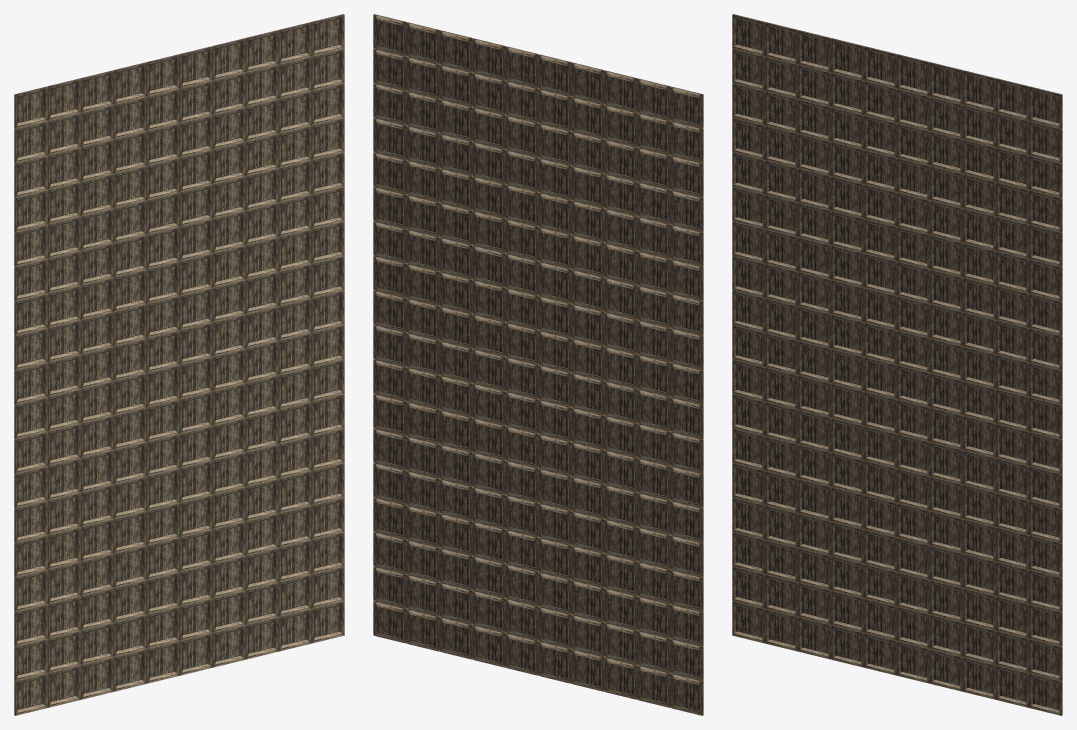
Rendered from frame.obj.
The picture shows the model from 3 angles, left to right: view 1: azimuth 30°, elevation 25°; view 2: azimuth 150°, elevation 25°; view 3: azimuth 330°, elevation 25°; orthographic projection.
Parts seen in each view (by area): view 1: Cube; view 2: Cube; view 3: Cube.
Boxes of the visible parts, bbox=[...] form: Cube: bbox=[14, 14, 344, 715]; Cube: bbox=[373, 14, 703, 715]; Cube: bbox=[732, 14, 1062, 715].
Size of the model in its own units: 20.18 by 36.34 by 0.2033.
Materials: 1 (1 with a texture image).
